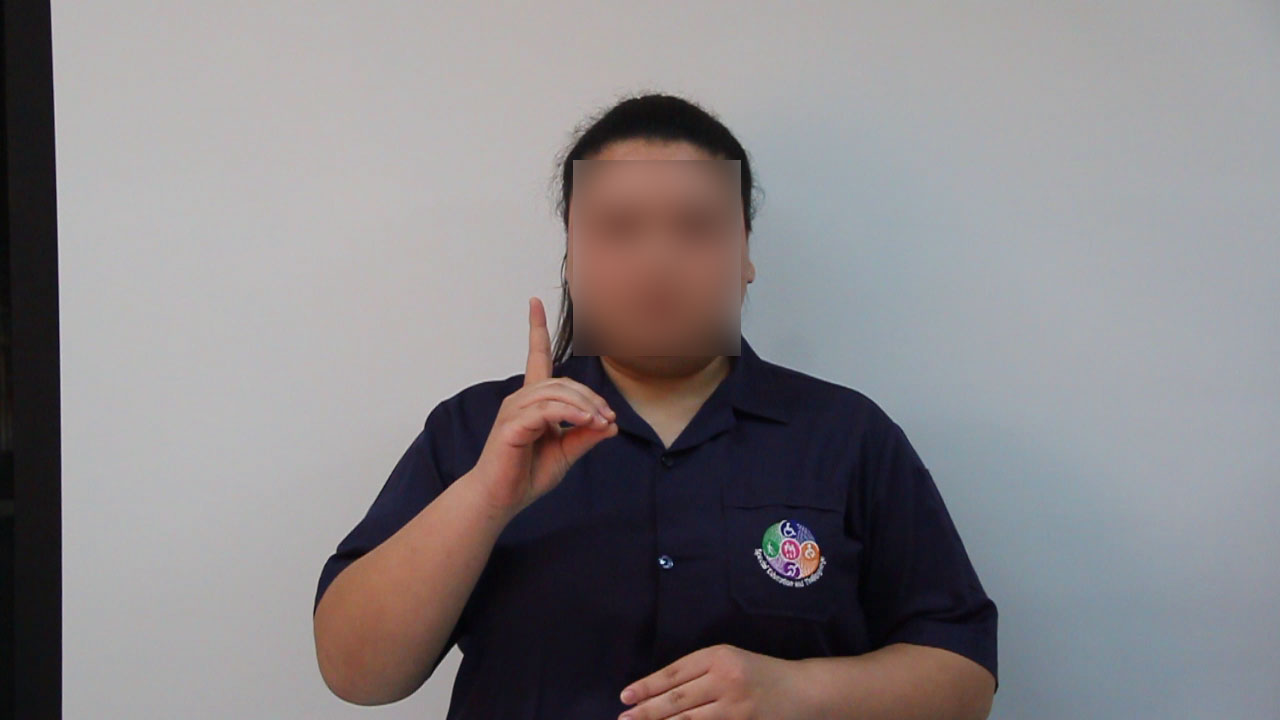dor: (436, 287, 624, 510)
